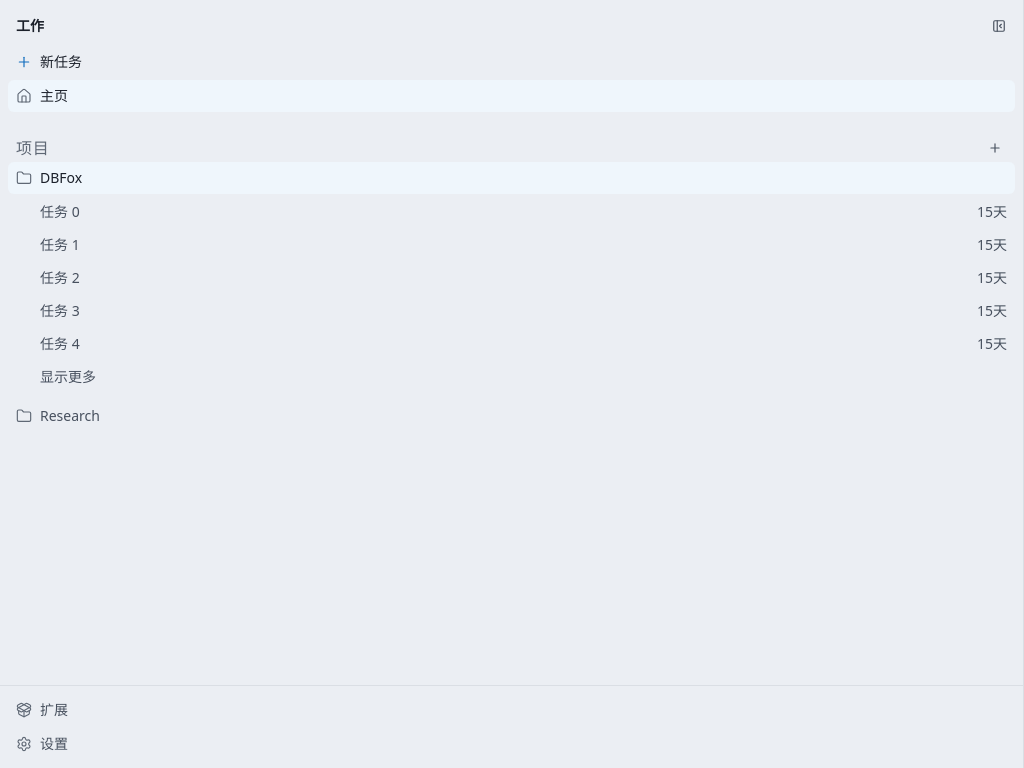
Test: ProjectResourceSidebar › expands a project's conversation overflow through 显示更多
This screenshot has width=1024, height=768.
Expected: the button "任务 4 15天" is shown, [8,328,1015,360]
Expected: the button "任务 5" is not shown
Step 1. Click the button "显示更多" → (68, 376), box [8,361,1015,391]
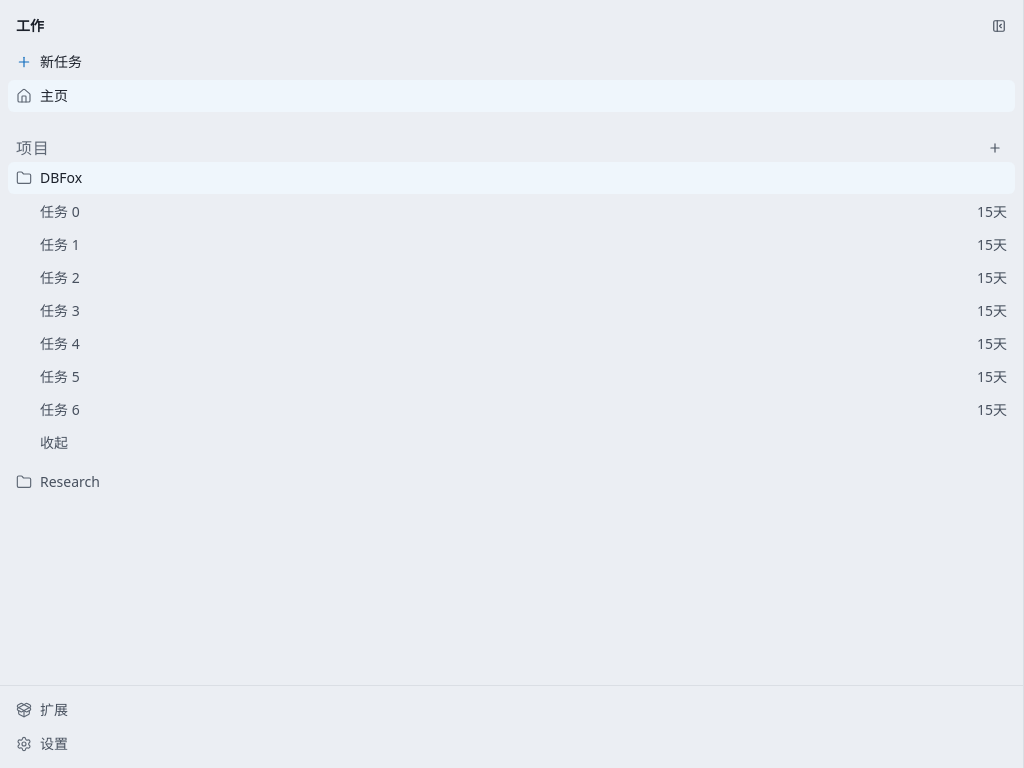
Result: the button "任务 5 15天" is shown at [8,361,1015,393]
Result: the button "任务 6 15天" is shown at [8,394,1015,426]
Result: the button "收起" is shown
Step 2. Click the button "收起" → (54, 442), box [8,427,1015,457]
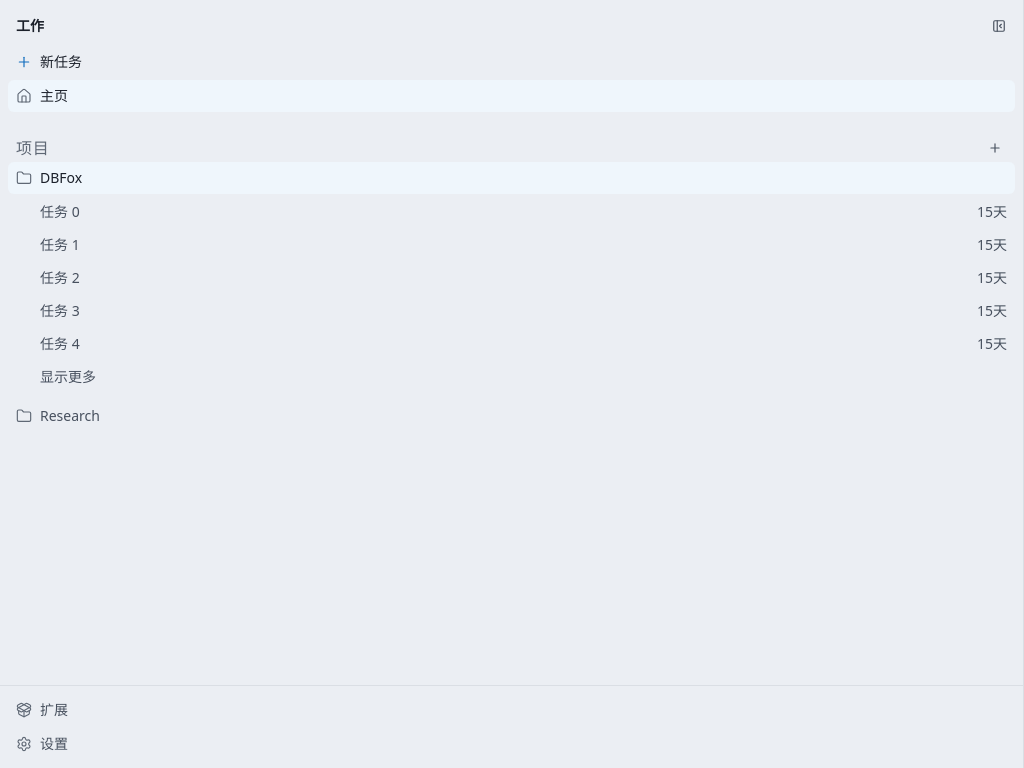
Result: the button "任务 5" is gone
